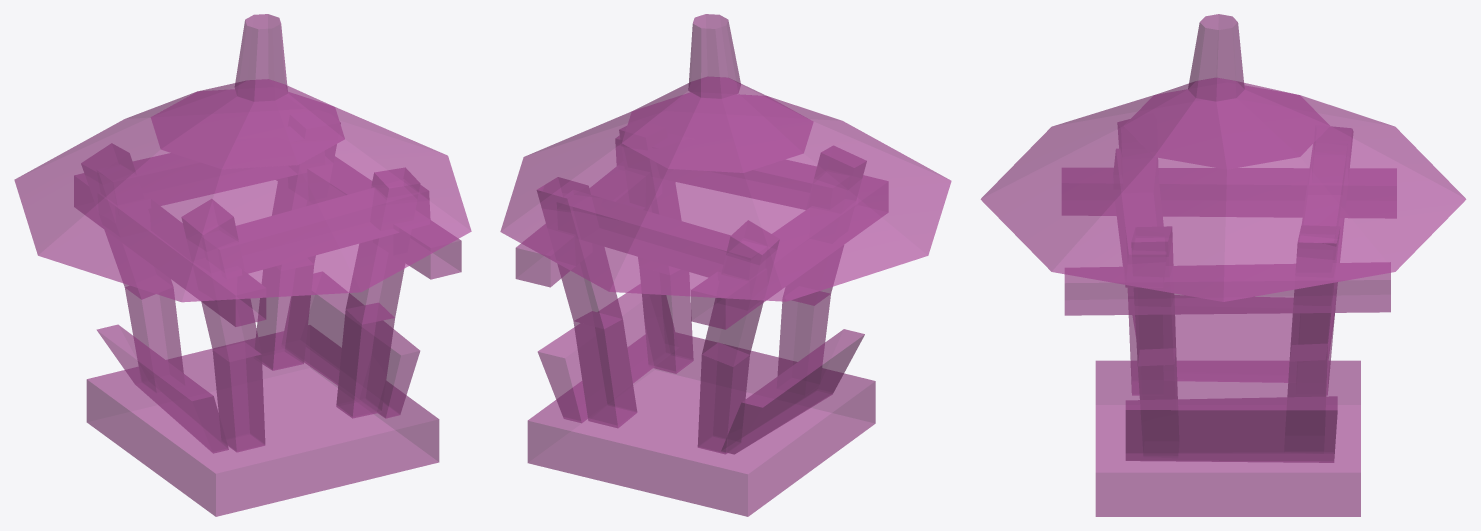
File: SM_Bld_Tower_Top_02_Collision.fbx
3 renders of one model, left to right at view 1: azimuth 30°, elevation 25°; view 2: azimuth 150°, elevation 25°; view 3: azimuth 270°, elevation 25°, orthographic. The views are drawn at different scales.
Visible parts, largest first — view 1: SM_Bld_Tower_Top_02_Collision; view 2: SM_Bld_Tower_Top_02_Collision; view 3: SM_Bld_Tower_Top_02_Collision.
Part boxes in pixels (x1,y1,x2,y2): SM_Bld_Tower_Top_02_Collision: (14,14,471,516); SM_Bld_Tower_Top_02_Collision: (500,14,951,516); SM_Bld_Tower_Top_02_Collision: (981,14,1465,516).
Bounding box in the file's own units: 521 × 516 × 521.
